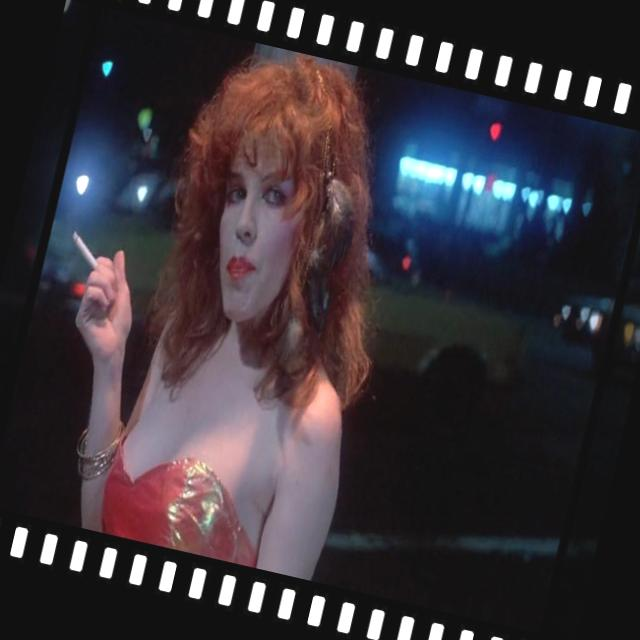smoke: (48, 204, 139, 291)
